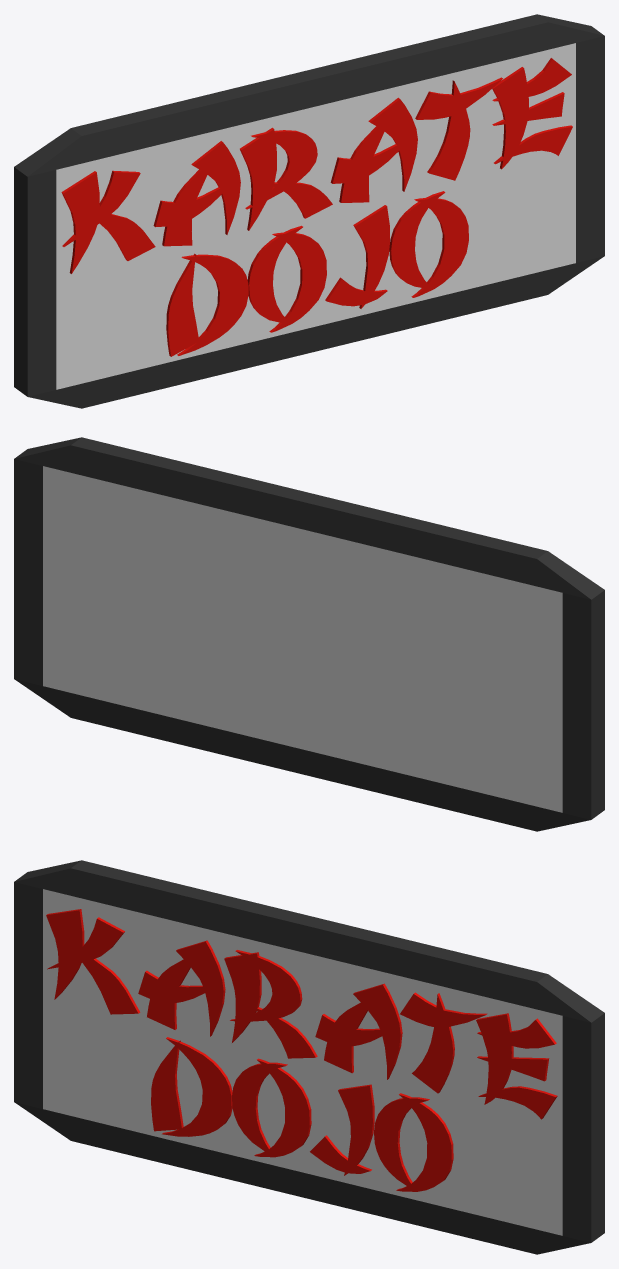
The model's file is Karate Dojo Sign.fbx.
The picture shows the model from 3 angles, top to bottom: view 1: azimuth 30°, elevation 25°; view 2: azimuth 150°, elevation 25°; view 3: azimuth 330°, elevation 25°; orthographic projection.
Parts seen in each view (by area): view 1: Karate Dojo Sign; view 2: Karate Dojo Sign; view 3: Karate Dojo Sign.
Part boxes in pixels (x1=…): Karate Dojo Sign: x1=14, y1=14, x2=604, y2=408; Karate Dojo Sign: x1=14, y1=437, x2=604, y2=831; Karate Dojo Sign: x1=14, y1=860, x2=604, y2=1254.
Size of the model in its own units: 2176 by 982 by 100.
